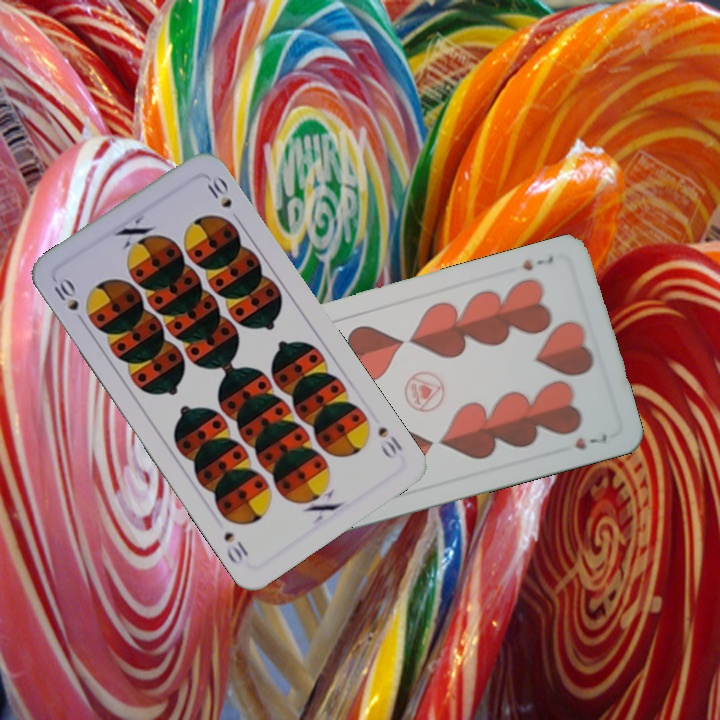H7: (519, 251, 556, 274)
S10: (49, 274, 88, 327), (373, 422, 406, 462)
